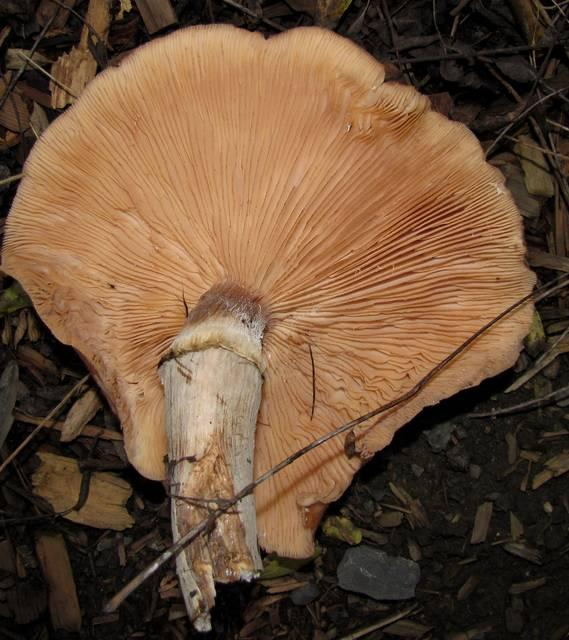Edible Mushroom: (0, 20, 539, 633)
